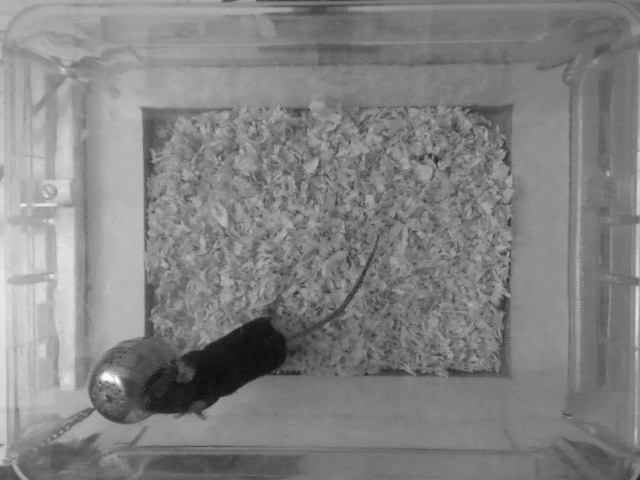mice: (138, 234, 384, 419)
